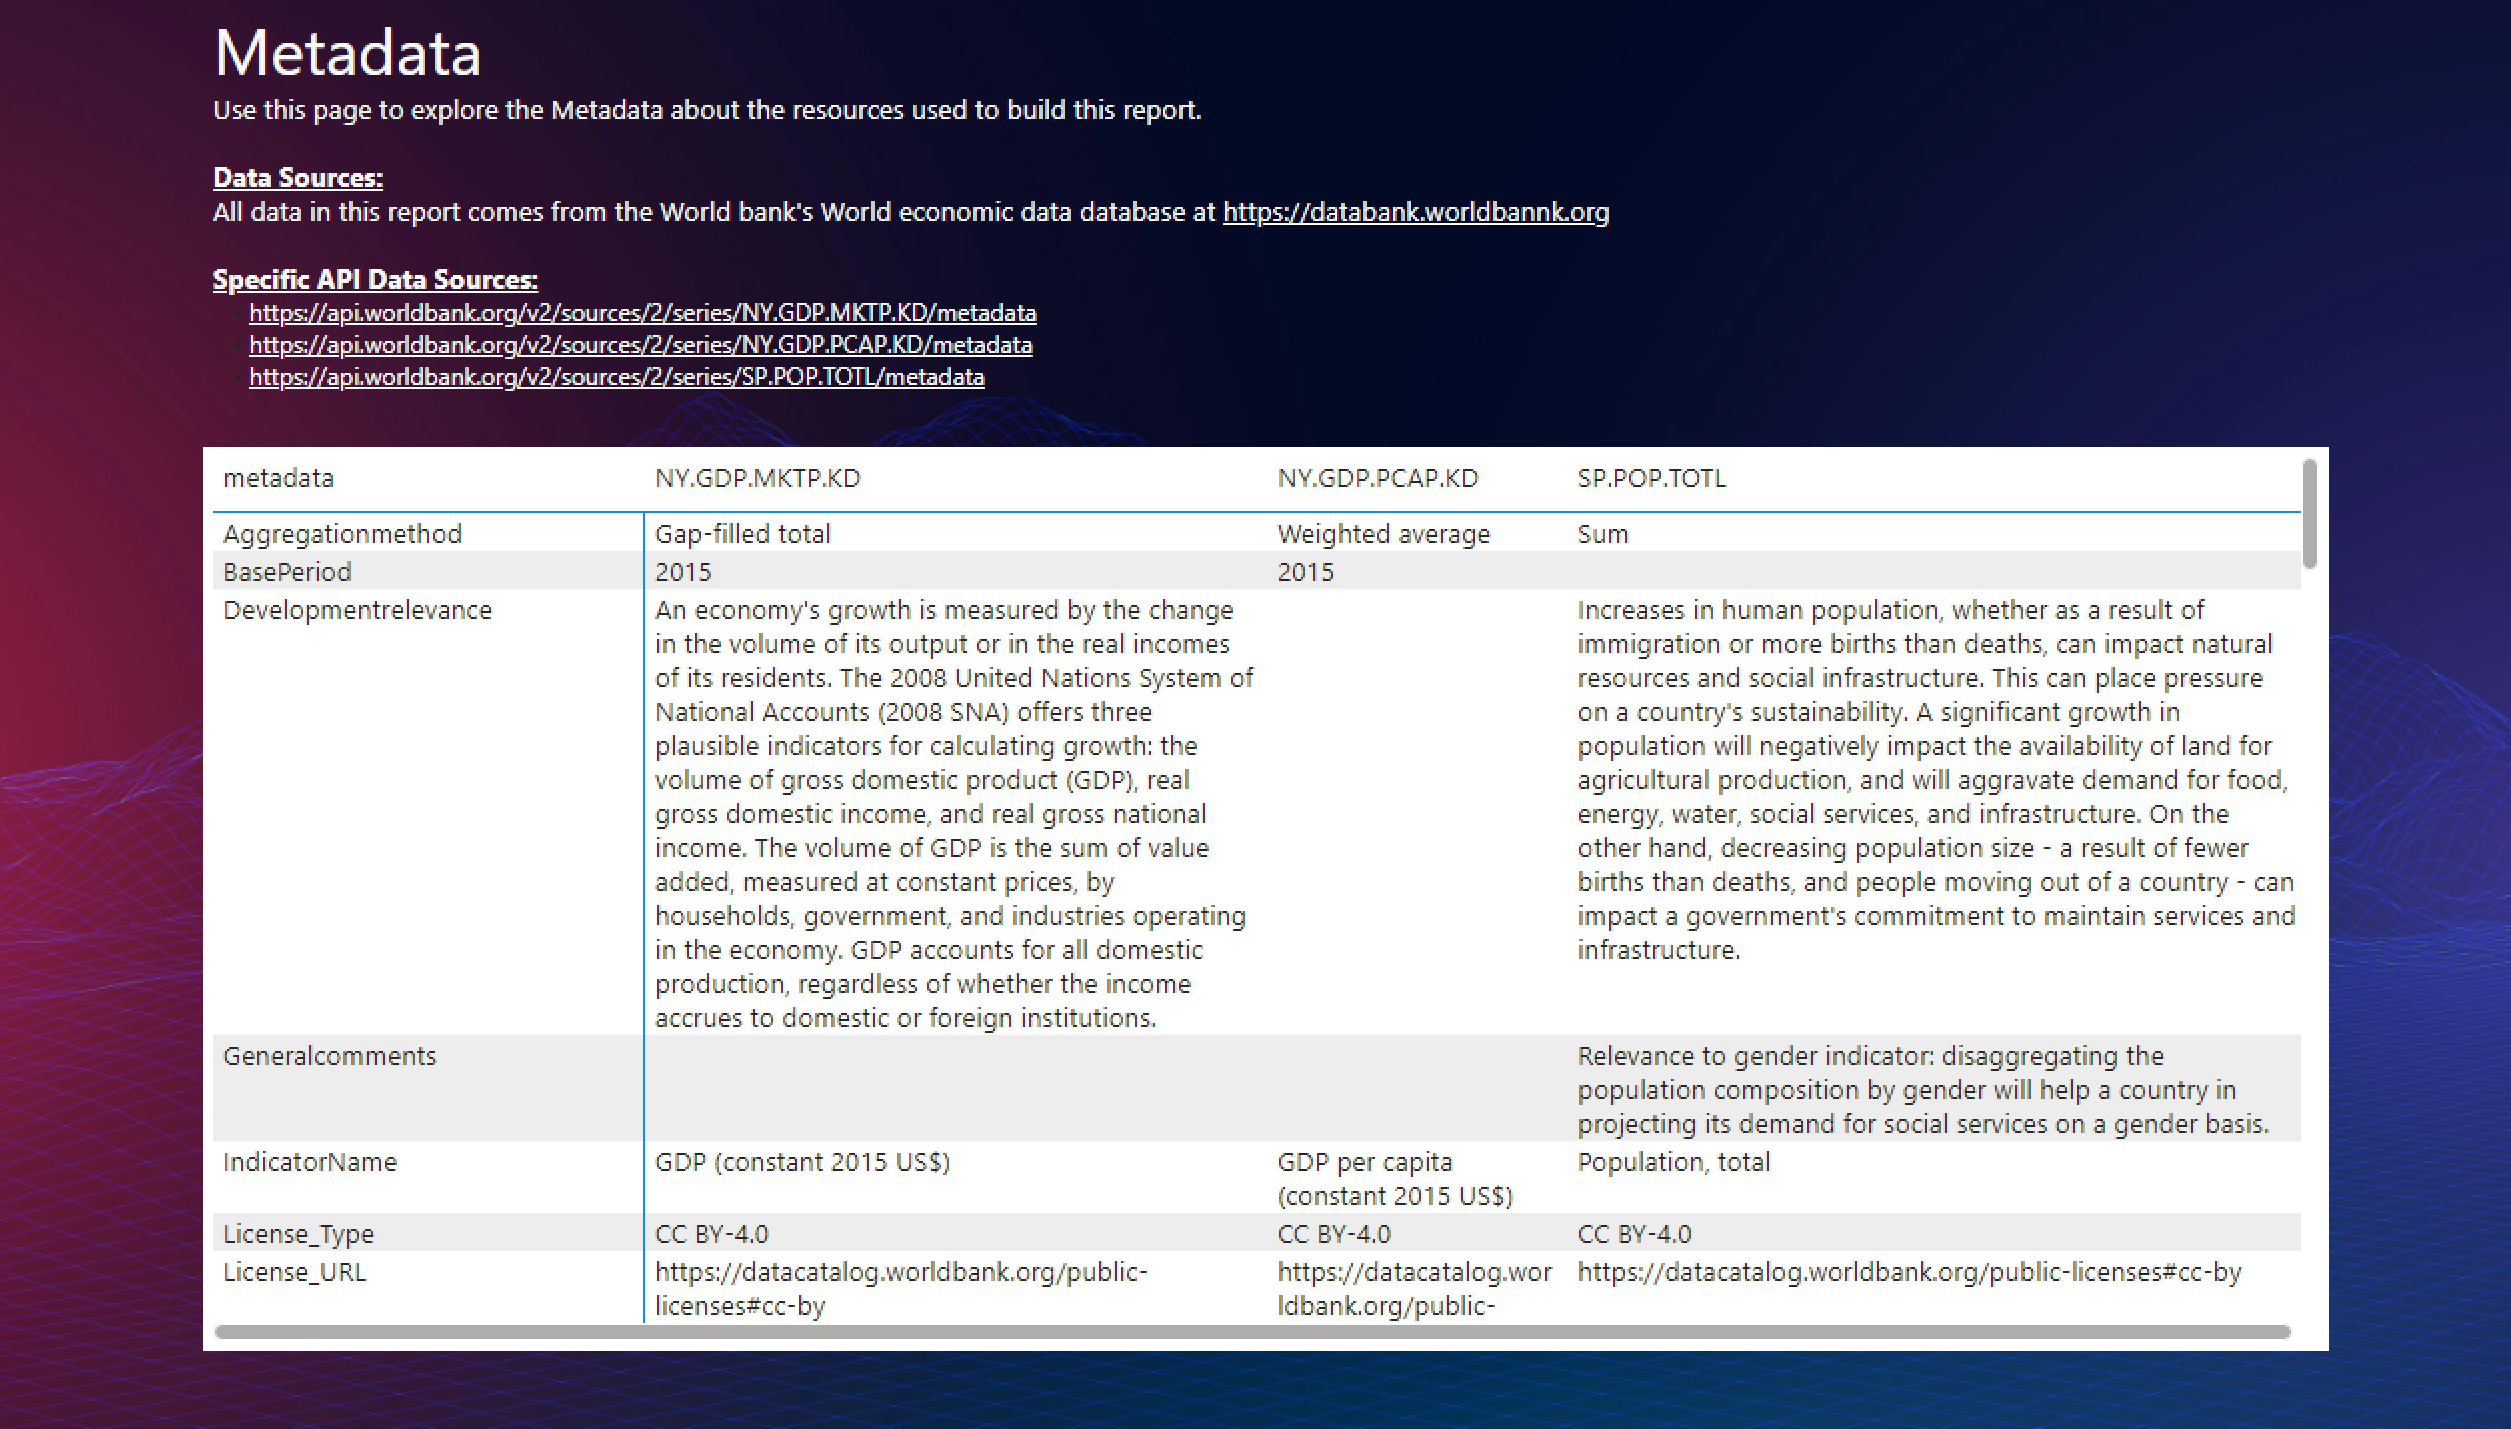

Layout of this report page (visuals, bound fields, positions):
{"tool":"powerbi","page":{"name":"Metadata","canvas":[1280,720],"ordinal":2},"visuals":[{"type":"pivotTable","fields":{"Rows":["Metadata.metadata"],"Values":["Min(Metadata.metadata value)"],"Columns":["Metadata.series"]},"box":[116.7,225.6,1063.3,452.2],"z":0},{"type":"textbox","box":[116.7,0,744.4,215.6],"z":1000}]}

Visuals, with their boxes in screenshot pixels (x1, y1, x2, y2), scaled from the page's 1280x720 canvas onto the 2511x1429 screenshot:
pivotTable - Metadata.metadata x Min(Metadata.metadata value): 229,448,2315,1345
textbox: 229,0,1689,428
